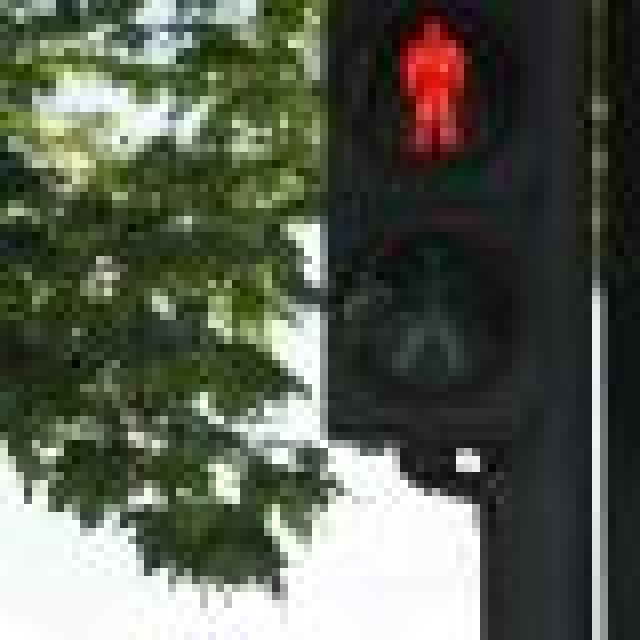redlight: (314, 0, 547, 444)
